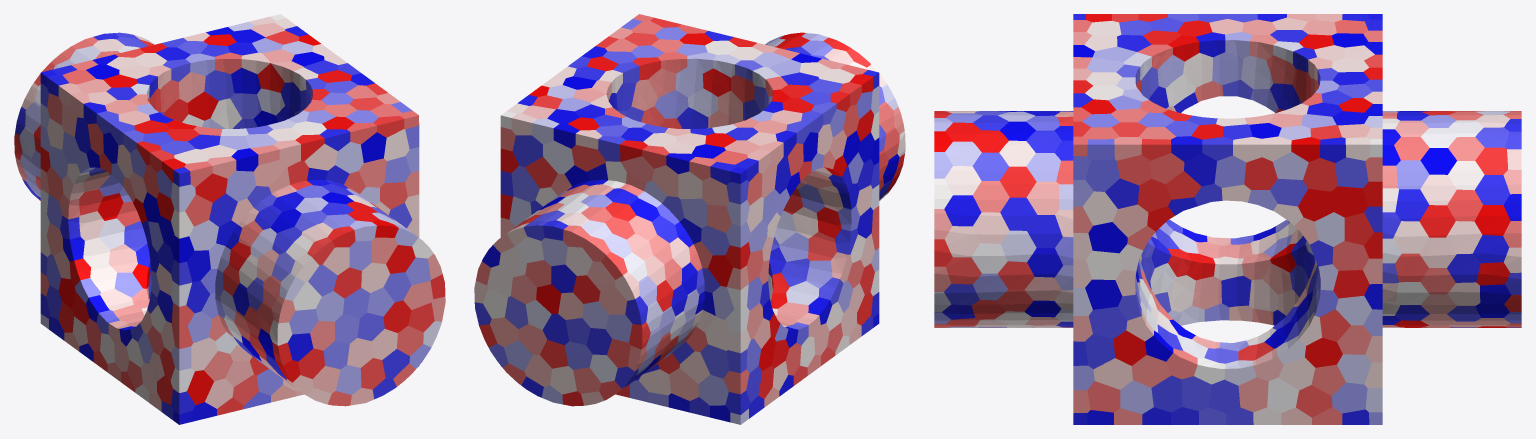
The model's file is Ours_1000_block_Iter51_RVD.obj.
3 views of the same model, side by side, from view 1: azimuth 30°, elevation 25°; view 2: azimuth 150°, elevation 25°; view 3: azimuth 270°, elevation 25° (orthographic). The views are drawn at different scales.
Visible parts, largest first — view 1: 3D_Object; view 2: 3D_Object; view 3: 3D_Object.
Boxes of the visible parts, x1,y1,x2,y2 form: 3D_Object: (14,14,445,424); 3D_Object: (474,14,905,424); 3D_Object: (934,14,1521,424).
Bounding box in the file's own units: 20 × 20 × 38.
Materials: 1 (1 with a texture image).
